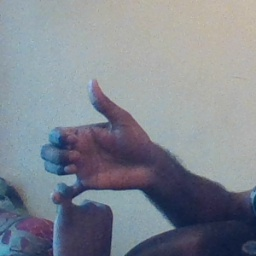S: (38, 77, 156, 245)
